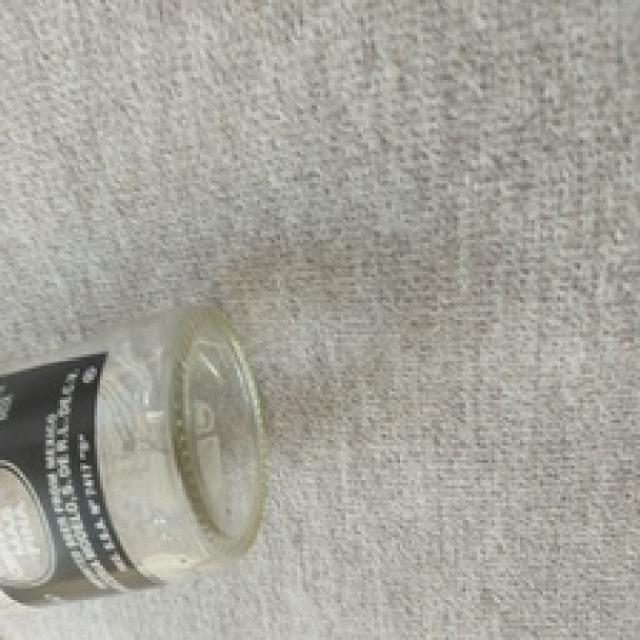Glass: (0, 326, 271, 608)
